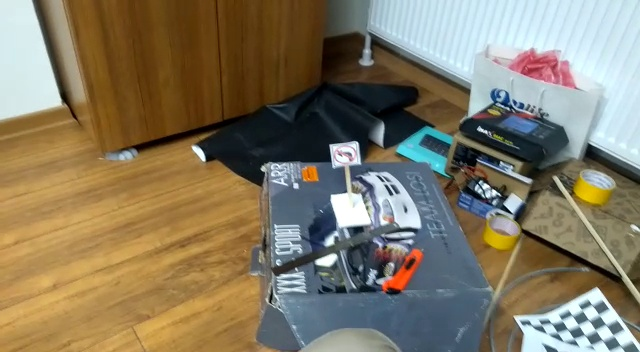sola_donulmez: (333, 142, 358, 168)
